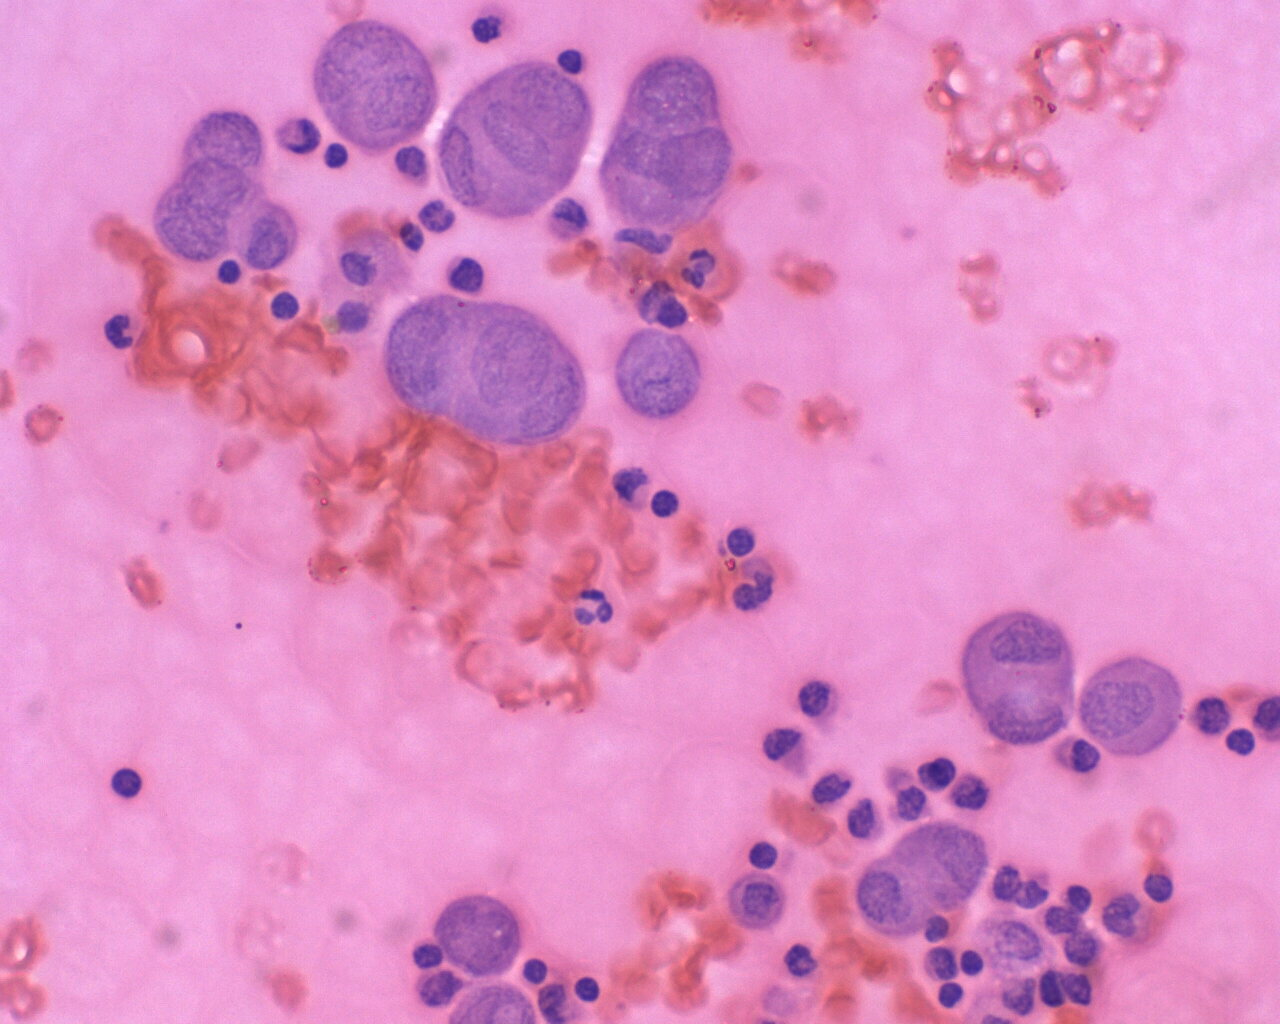ab: (383, 294, 584, 452), (434, 60, 591, 219), (598, 54, 725, 233), (156, 94, 263, 260), (315, 16, 434, 158), (957, 607, 1078, 744), (1077, 651, 1188, 761), (897, 816, 990, 915), (612, 326, 707, 421), (437, 891, 523, 975), (729, 870, 786, 931)
lymph: (719, 519, 761, 561), (106, 757, 142, 802), (745, 834, 787, 872), (644, 485, 682, 520)
neutro: (565, 583, 618, 631), (97, 307, 139, 353)
